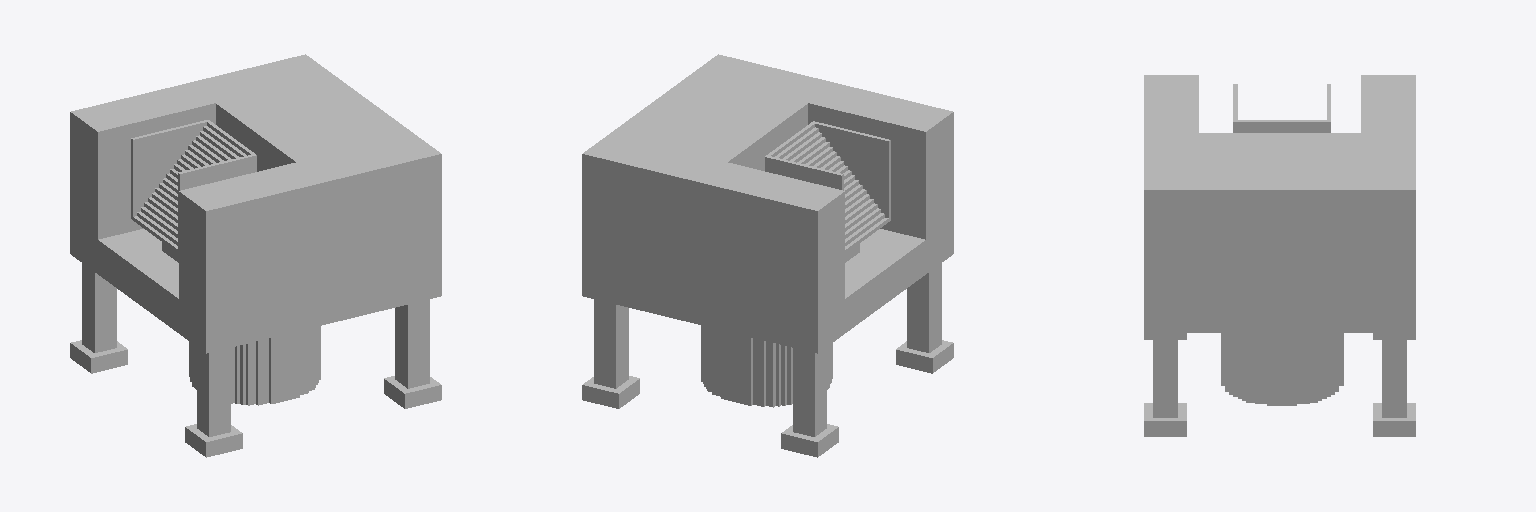
Rendered from Mining Machine in use.obj.
3 renders of one model, left to right at view 1: azimuth 30°, elevation 25°; view 2: azimuth 150°, elevation 25°; view 3: azimuth 270°, elevation 25°, orthographic.
Parts seen in each view (by area): view 1: Mining Machine in use; view 2: Mining Machine in use; view 3: Mining Machine in use.
Boxes of the visible parts, box(x1,y1,x2,y2) form: Mining Machine in use: box(70, 54, 441, 457); Mining Machine in use: box(582, 54, 953, 457); Mining Machine in use: box(1144, 75, 1415, 436).
Size of the model in its own units: 64 by 64 by 64.